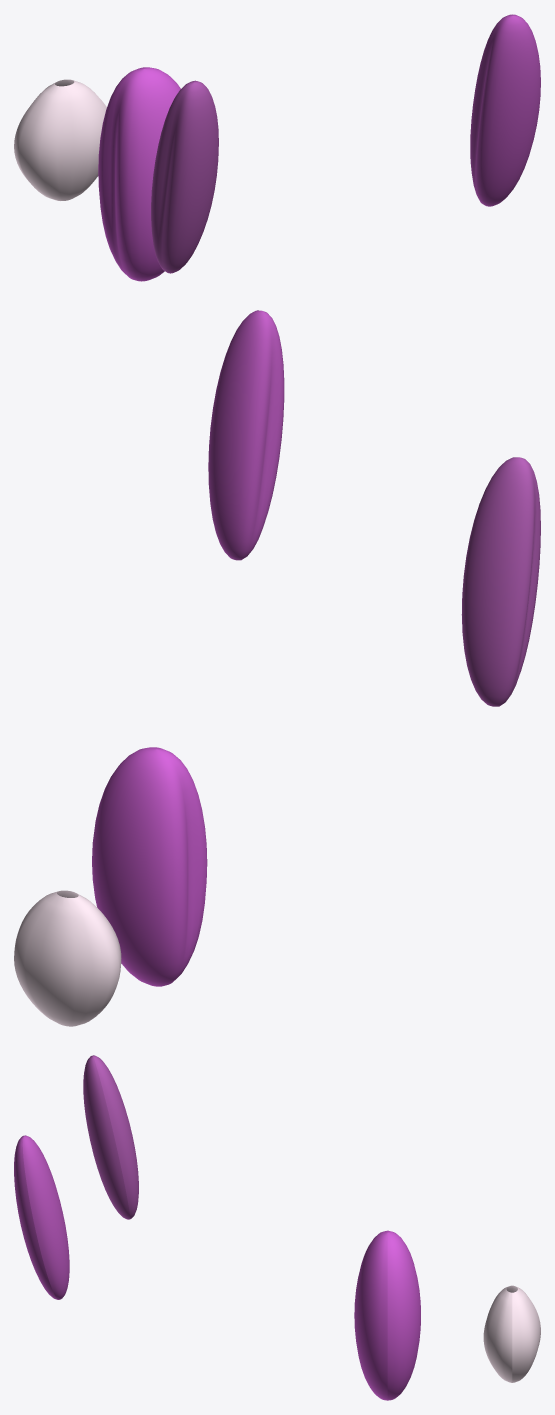
The model's file is urogenital.glb.
3 renders of one model, top to bottom at view 1: azimuth 30°, elevation 25°; view 2: azimuth 150°, elevation 25°; view 3: azimuth 270°, elevation 25°, orthographic. The views are drawn at different scales.
Parts seen in each view (by area): view 1: Mesh_Canine_VesicaUrinaria, Mesh_Canine_RenDexter, Mesh_Canine_RenSinister, Mesh_Canine_Prostata; view 2: Mesh_Canine_VesicaUrinaria, Mesh_Canine_RenSinister, Mesh_Canine_RenDexter, Mesh_Canine_Prostata; view 3: Mesh_Canine_VesicaUrinaria, Mesh_Canine_RenDexter, Mesh_Canine_RenSinister, Mesh_Canine_Prostata.
Boxes of the visible parts, x1,y1,x2,y2 form: Mesh_Canine_VesicaUrinaria: (98, 67, 180, 281); Mesh_Canine_RenDexter: (470, 14, 540, 206); Mesh_Canine_RenSinister: (151, 80, 218, 273); Mesh_Canine_Prostata: (14, 79, 106, 200); Mesh_Canine_VesicaUrinaria: (92, 747, 207, 986); Mesh_Canine_RenSinister: (461, 457, 540, 706); Mesh_Canine_RenDexter: (208, 310, 284, 560); Mesh_Canine_Prostata: (14, 890, 121, 1026); Mesh_Canine_VesicaUrinaria: (354, 1230, 420, 1400); Mesh_Canine_RenDexter: (14, 1135, 69, 1299); Mesh_Canine_RenSinister: (83, 1055, 138, 1219); Mesh_Canine_Prostata: (483, 1285, 540, 1382).
Bounding box in the file's own units: 0.4354 × 0.5014 × 0.7618.
